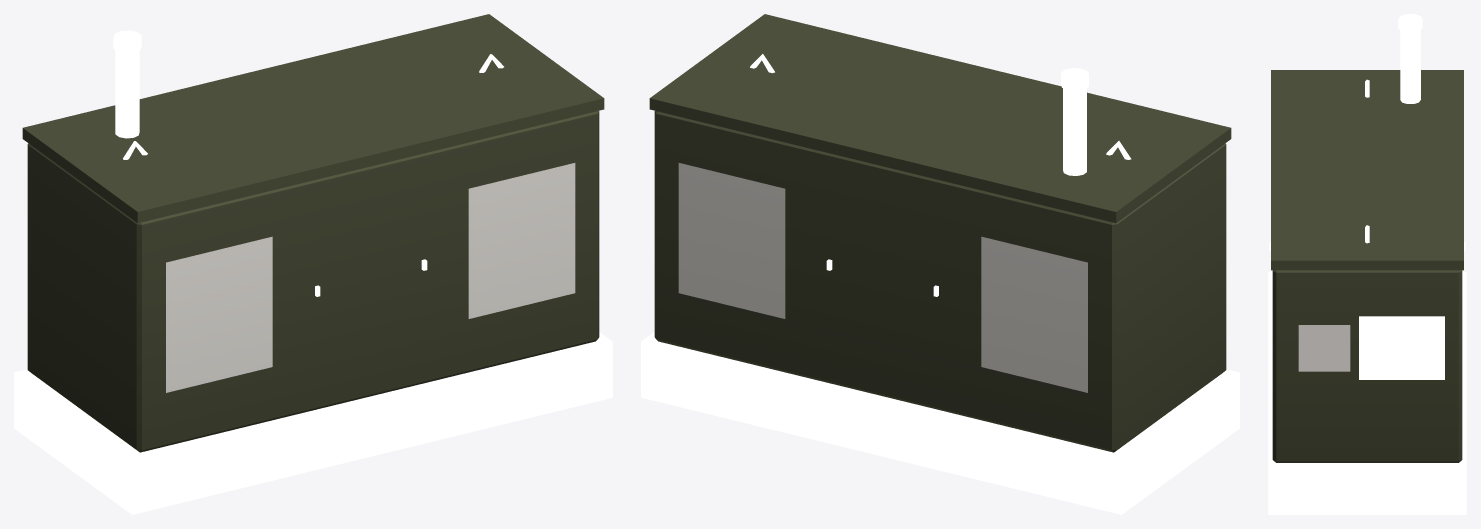
File: generator_60kw.glb
3 views of the same model, side by side, from view 1: azimuth 30°, elevation 25°; view 2: azimuth 150°, elevation 25°; view 3: azimuth 270°, elevation 25° (orthographic). The views are drawn at different scales.
Visible parts, largest first — view 1: generator_60kw_LOD0; view 2: generator_60kw_LOD0; view 3: generator_60kw_LOD0.
Part boxes in pixels (<box>): generator_60kw_LOD0: <box>14,14,612,514</box>; generator_60kw_LOD0: <box>641,14,1239,514</box>; generator_60kw_LOD0: <box>1268,14,1466,514</box>.
Size of what is drawn, in the model's own units: 2.7 by 2.13 by 1.15.
